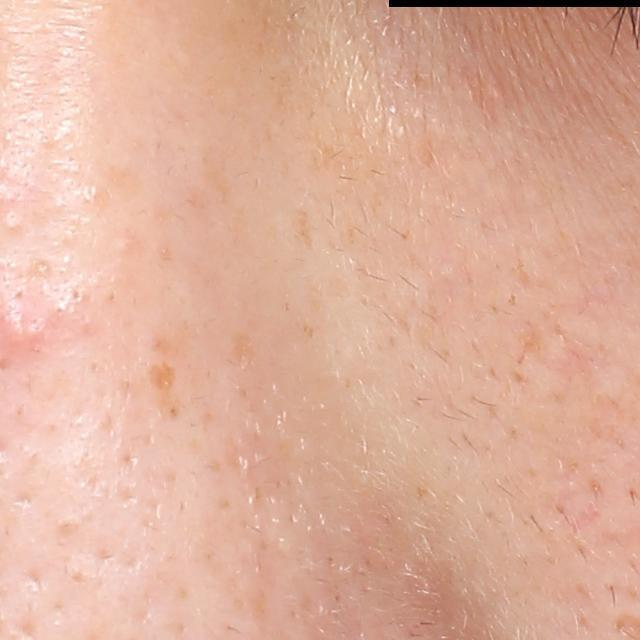comedo: (2, 216, 24, 236)
melasma: (146, 362, 184, 421), (230, 331, 255, 366), (292, 212, 313, 246)
